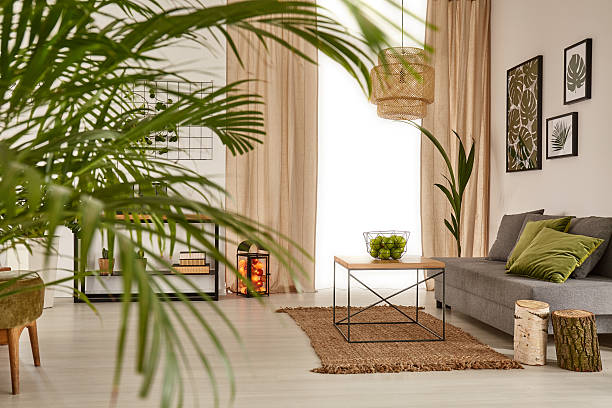large plant: (0, 7, 292, 400), (413, 122, 491, 258)
sofa: (430, 207, 612, 341)
table: (69, 205, 223, 304), (329, 251, 446, 346)
wall art: (503, 53, 543, 174), (560, 35, 592, 105), (543, 110, 580, 162)
